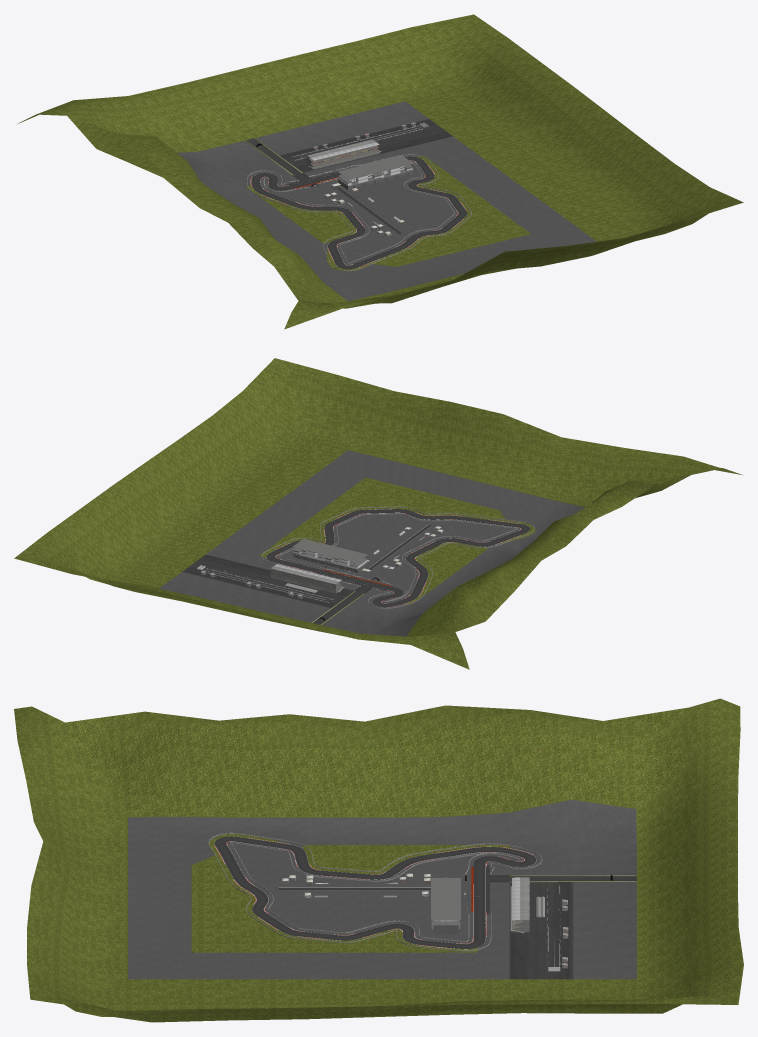
Rendered from freeride drag.fbx.
3 views of the same model, one above another, from view 1: azimuth 30°, elevation 25°; view 2: azimuth 150°, elevation 25°; view 3: azimuth 270°, elevation 25° (orthographic). The views are drawn at different scales.
Parts seen in each view (by area): view 1: rumputt, jalanbiasa, jalur balap, mesh_282_165.nr_mesh_282_165.nr.001, mesh_116_95.nr_mesh_116_95.nr.002, Cube.007, Cube.001; view 2: rumputt, jalanbiasa, jalur balap, mesh_282_165.nr_mesh_282_165.nr.001, mesh_116_95.nr_mesh_116_95.nr.001, Cube.007, Cube.001; view 3: rumputt, jalanbiasa, jalur balap, Cube.007, mesh_282_165.nr_mesh_282_165.nr.001, Cube.001, mesh_116_95.nr_mesh_116_95.nr.002, mesh_116_95.nr_mesh_116_95.nr.001.
Boxes of the visible parts, x1,y1,x2,y2 form: rumputt: (18,14,743,329); jalanbiasa: (260,160,457,265); jalur balap: (251,156,467,269); mesh_282_165.nr_mesh_282_165.nr.001: (307,139,381,169); mesh_116_95.nr_mesh_116_95.nr.002: (343,160,413,189); Cube.007: (247,154,471,271); Cube.001: (266,161,455,264); rumputt: (14,358,741,669); jalanbiasa: (276,513,520,603); jalur balap: (266,509,530,607); mesh_282_165.nr_mesh_282_165.nr.001: (270,564,344,593); mesh_116_95.nr_mesh_116_95.nr.001: (292,543,362,572); Cube.007: (262,506,534,608); Cube.001: (278,513,518,596); rumputt: (14,698,743,1022); jalanbiasa: (227,842,523,943); jalur balap: (214,836,536,948); Cube.007: (208,832,542,951); mesh_282_165.nr_mesh_282_165.nr.001: (510,877,529,933); Cube.001: (230,842,492,942); mesh_116_95.nr_mesh_116_95.nr.002: (431,877,446,934); mesh_116_95.nr_mesh_116_95.nr.001: (445,877,461,934).
Size of the model in its own units: 26387 by 2986 by 26920.
